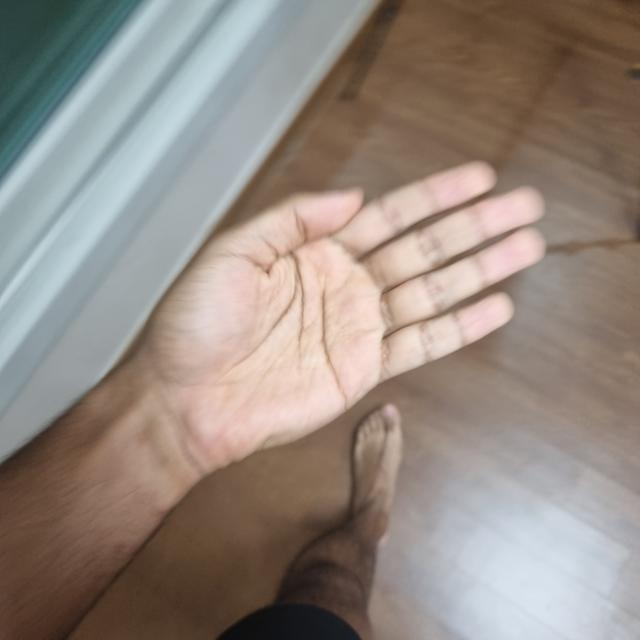Paper: (138, 167, 542, 458)
